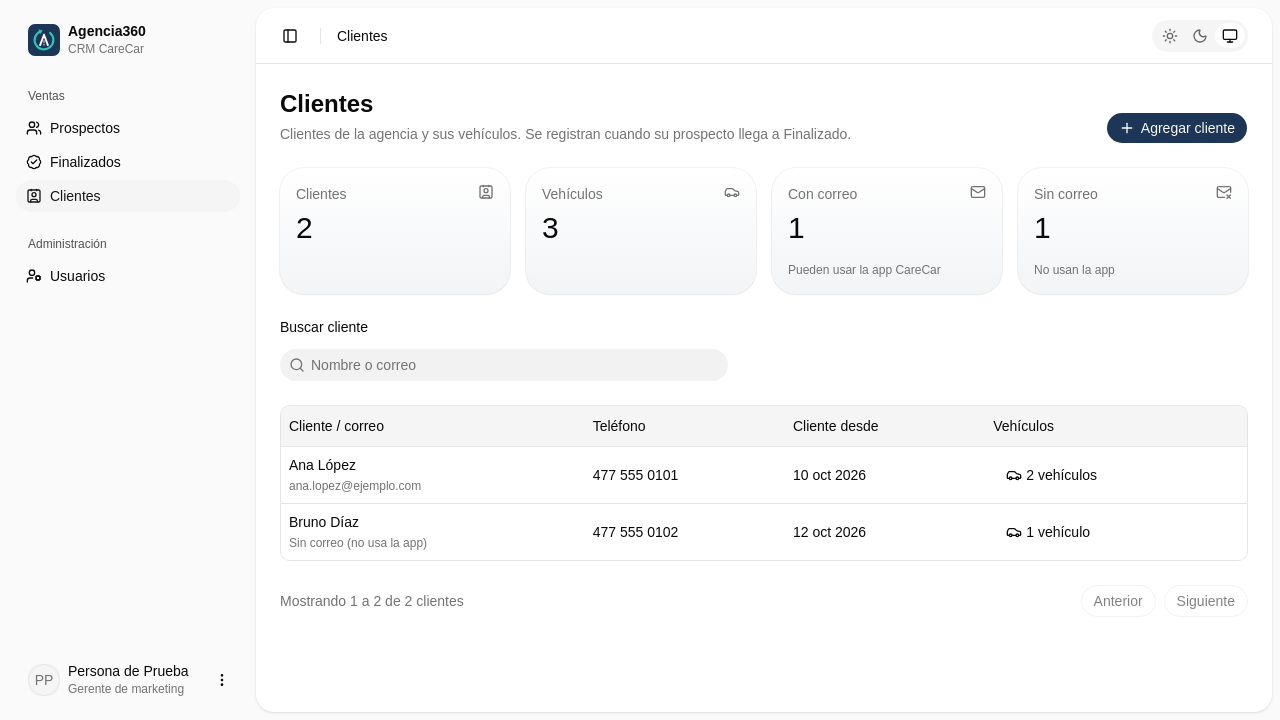
Test: Clientes (CRM-1.5) › muestra los vehículos de un cliente
Click the button with aria-label "Ver vehículos de Ana López" at (1052, 475), box [993,461,1110,489]
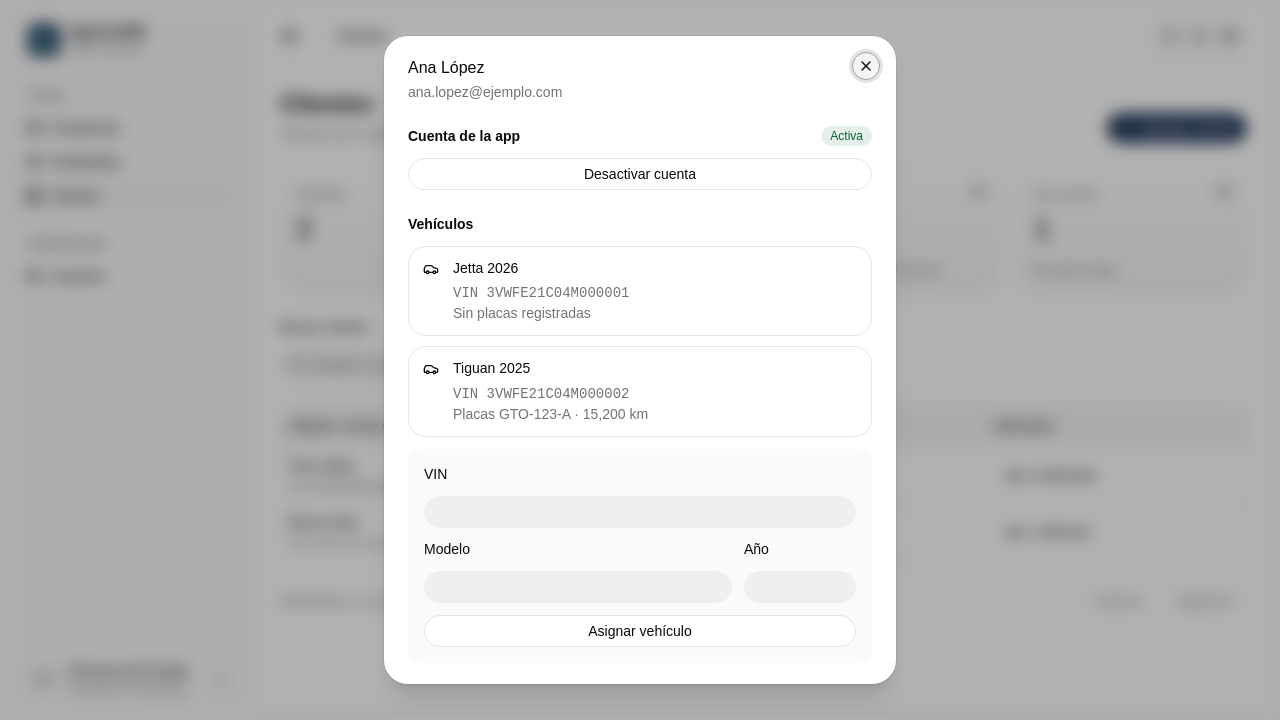
Result: the text "Jetta 2026" is shown at [453,259,518,278]
Result: the text "VIN 3VWFE21C04M000001" is shown at [453,285,629,301]
Result: the text "Tiguan 2025" is shown at [453,359,530,379]
